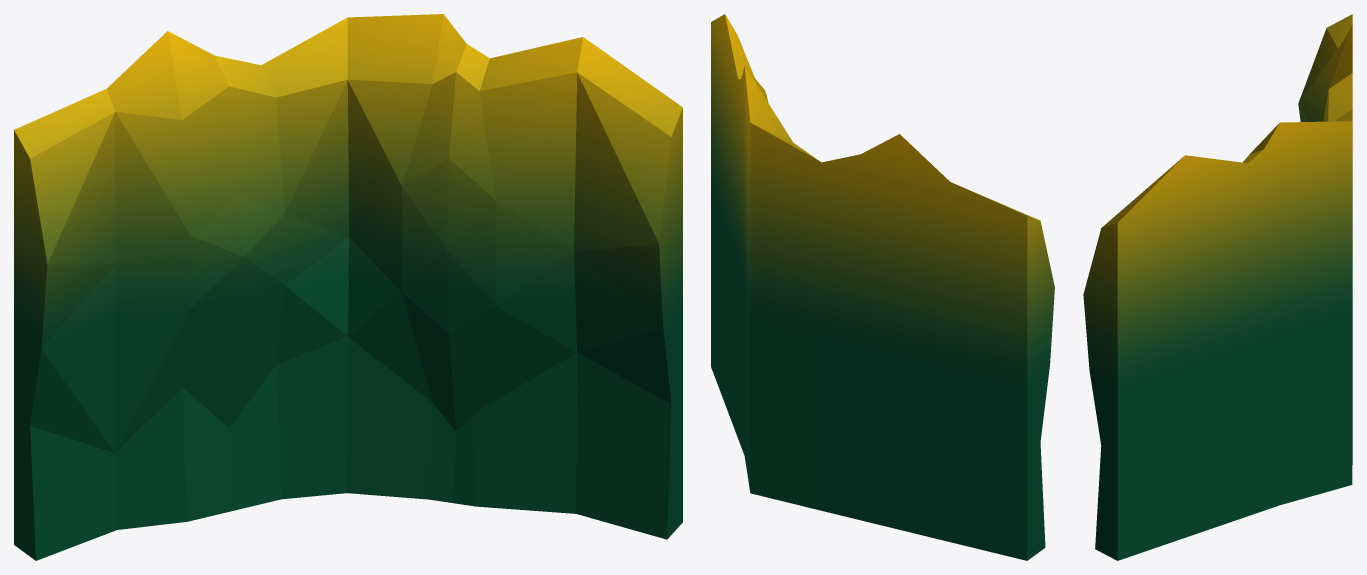
The model's file is Mod_Wall_Turn120.fbx.
The picture shows the model from 3 angles, left to right: view 1: azimuth 30°, elevation 25°; view 2: azimuth 150°, elevation 25°; view 3: azimuth 270°, elevation 25°; orthographic projection. The views are drawn at different scales.
Parts seen in each view (by area): view 1: Mod_Turn120; view 2: Mod_Turn120; view 3: Mod_Turn120.
Boxes of the visible parts, x1=… form: Mod_Turn120: x1=14, y1=14, x2=682, y2=560; Mod_Turn120: x1=711, y1=14, x2=1054, y2=560; Mod_Turn120: x1=1083, y1=14, x2=1352, y2=560.
Size of the model in its own units: 13.81 by 11.98 by 7.53.
Materials: 1 (1 with a texture image).
